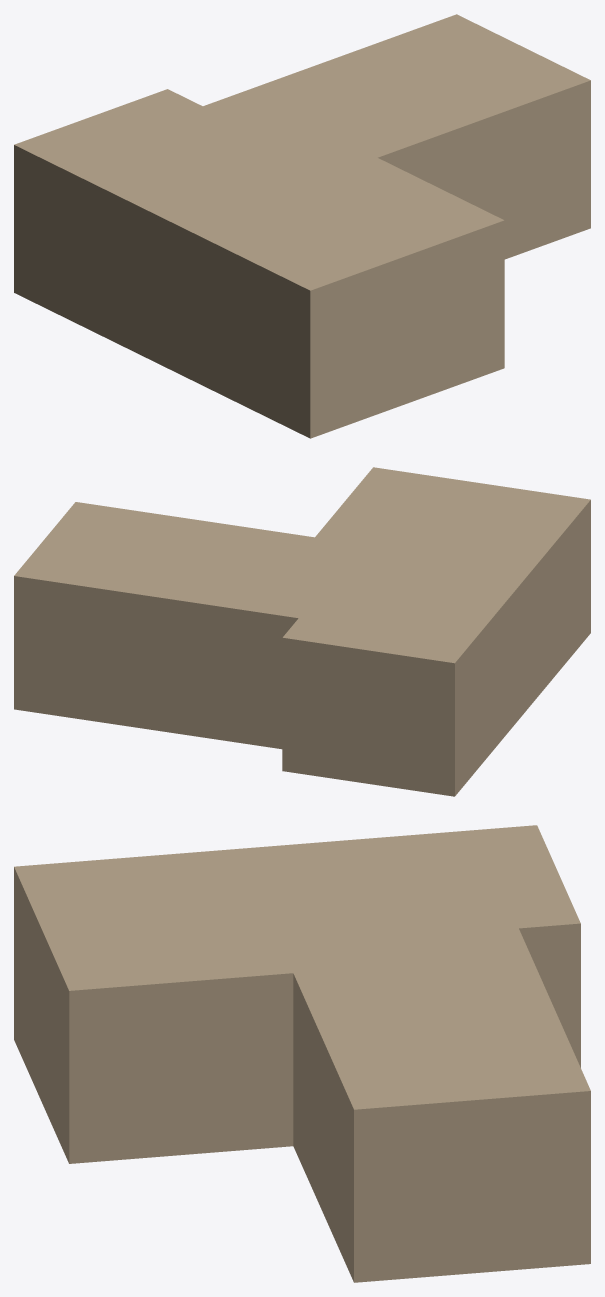
File: bld_99739293.dae
The picture shows the model from 3 angles, top to bottom: view 1: azimuth 30°, elevation 25°; view 2: azimuth 150°, elevation 25°; view 3: azimuth 270°, elevation 25°; orthographic projection. The views are drawn at different scales.
Visible parts, largest first — view 1: bld_99739293; view 2: bld_99739293; view 3: bld_99739293.
Part boxes in pixels (bbox=[...]): bld_99739293: bbox=[14, 14, 590, 438]; bld_99739293: bbox=[14, 467, 590, 796]; bld_99739293: bbox=[14, 825, 590, 1282].
Bounding box in the file's own units: 28.22 × 24.17 × 8.
